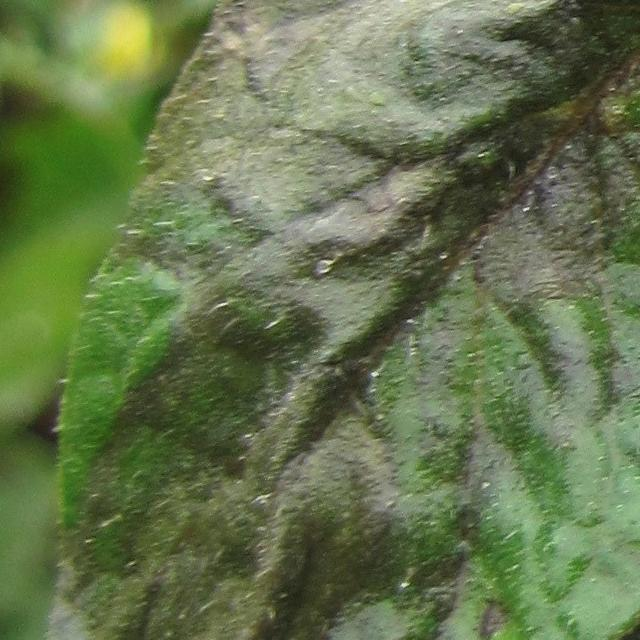Tomato leaf late blight: (0, 0, 640, 640), (335, 463, 640, 640)
